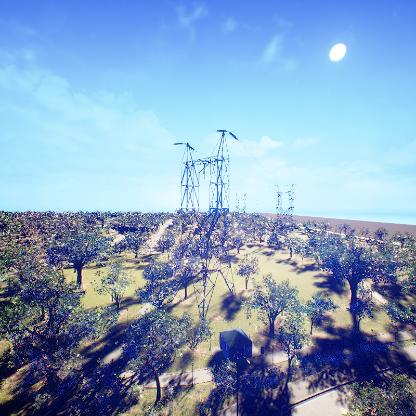tower: (166, 126, 244, 322)
